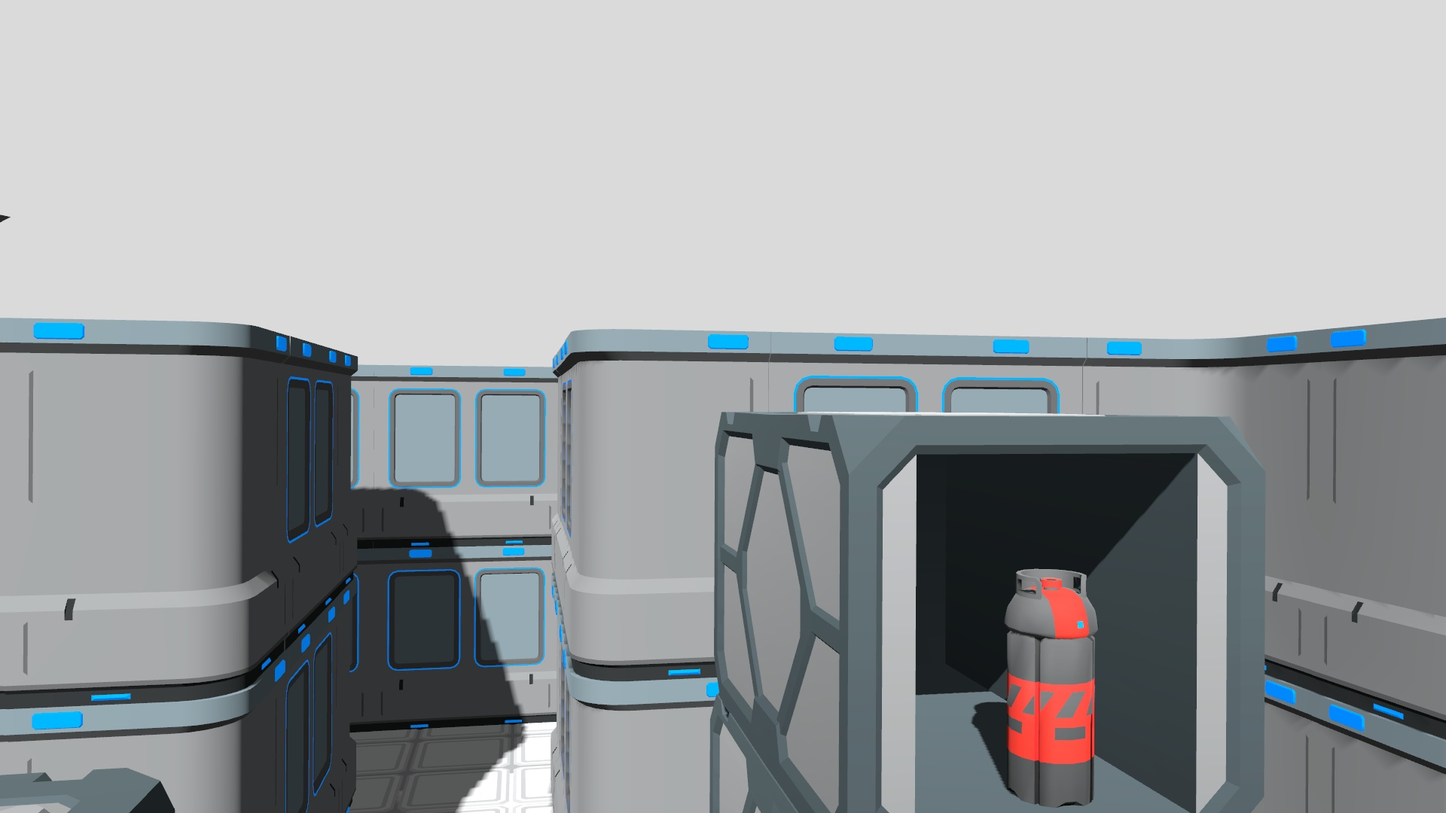red_barrel: (1003, 561, 1100, 810)
